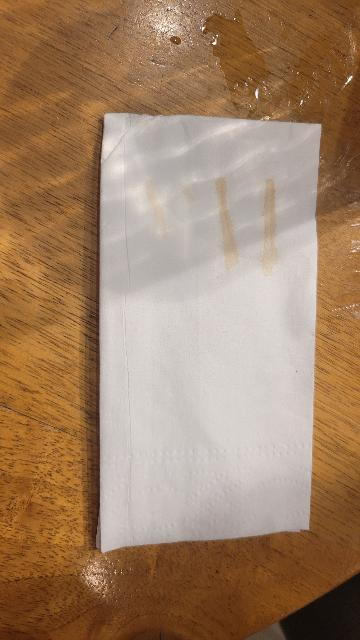Kagit: (99, 98, 327, 556)
